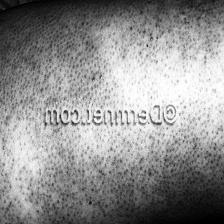Non-Cancerous Skin Condition: (0, 132, 224, 224), (6, 1, 224, 95)
